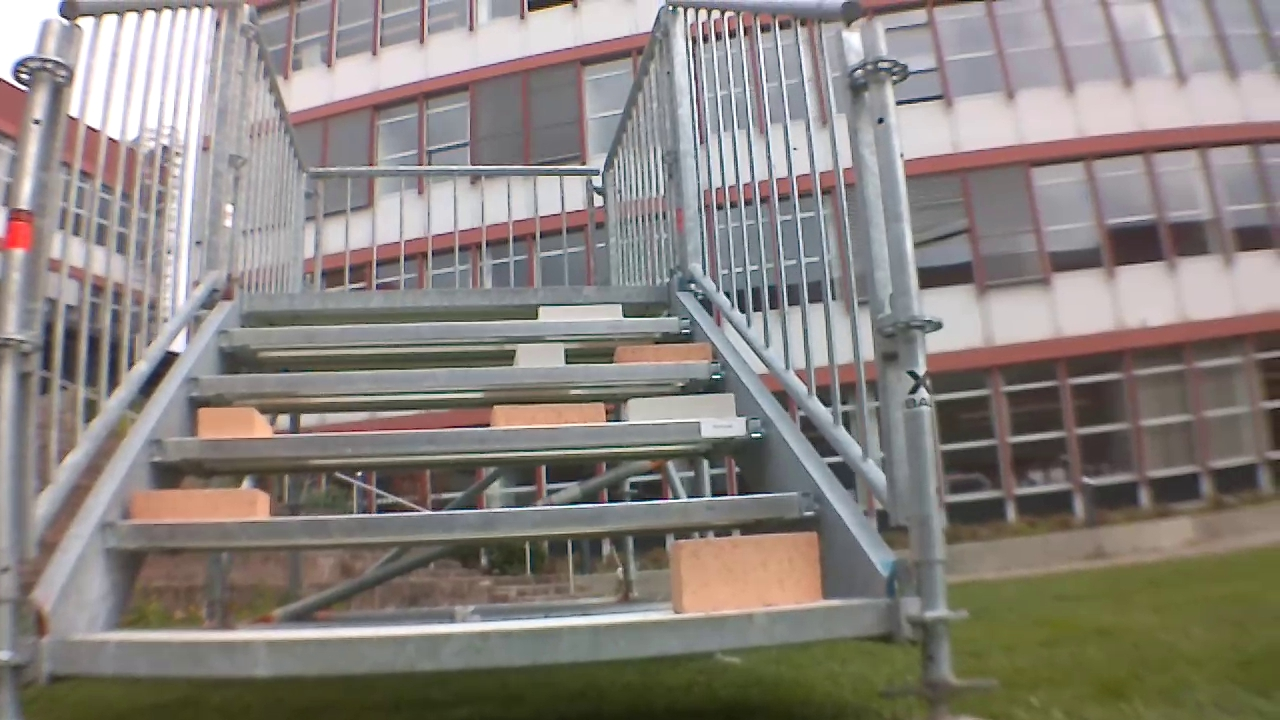brick: (664, 529, 831, 606), (133, 481, 273, 520), (483, 402, 608, 430), (619, 387, 737, 416), (186, 400, 271, 440), (614, 339, 721, 360), (528, 300, 625, 320), (511, 344, 569, 366)
edge: (42, 596, 906, 679), (108, 486, 815, 553), (152, 413, 769, 468), (217, 316, 696, 354), (183, 363, 731, 396), (240, 280, 673, 311)
stairs: (14, 0, 943, 713)
steps: (25, 287, 943, 682)
